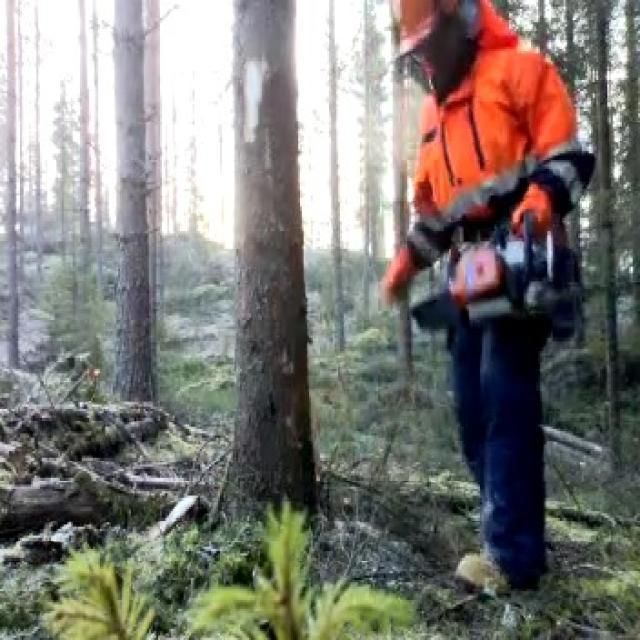Chainsaw: (384, 220, 636, 324)
